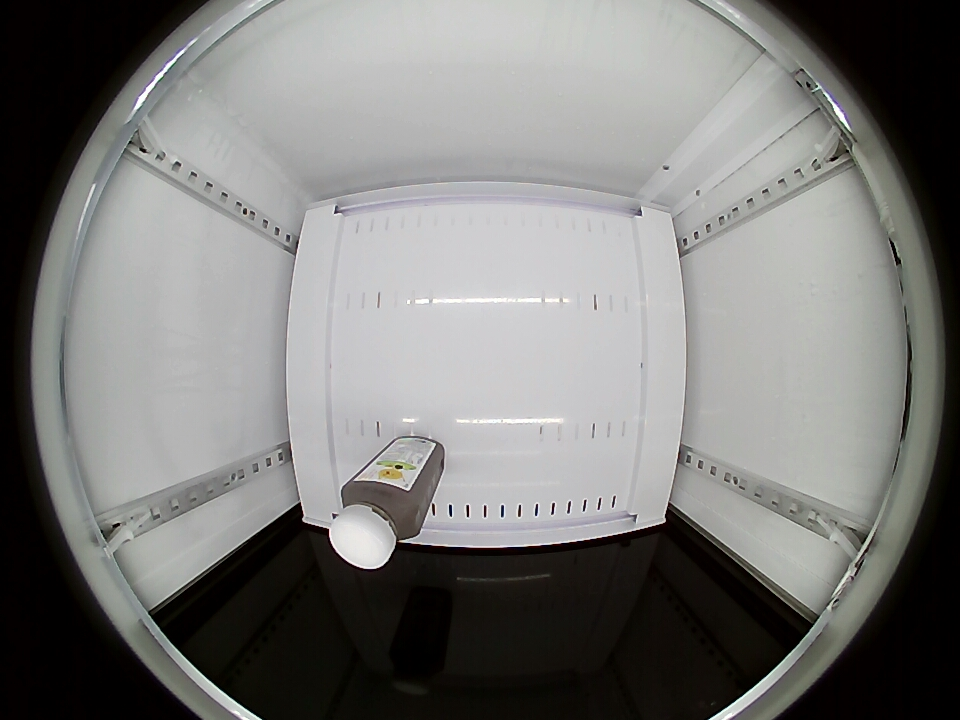youyanggudong: (329, 474, 429, 570)
